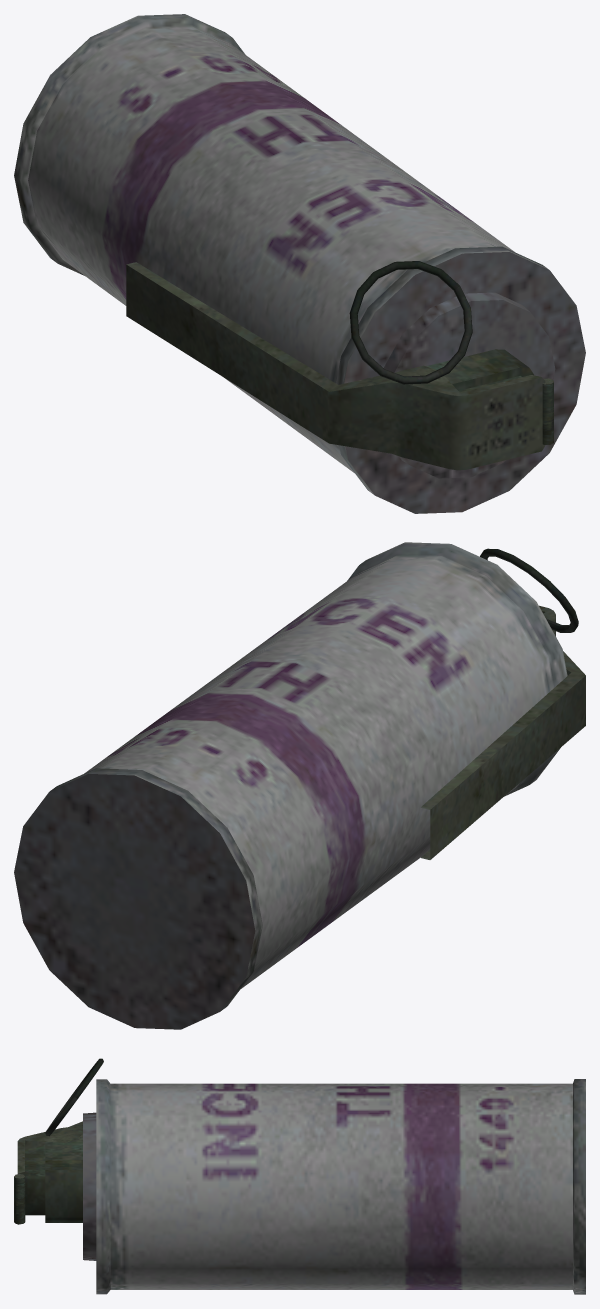
File: weapon_usa_smoke_grenade_LOD00.obj
The picture shows the model from 3 angles, top to bottom: view 1: azimuth 30°, elevation 25°; view 2: azimuth 150°, elevation 25°; view 3: azimuth 270°, elevation 25°; orthographic projection. The views are drawn at different scales.
Parts seen in each view (by area): view 1: TomGroup_0; view 2: TomGroup_0; view 3: TomGroup_0.
Part boxes in pixels (left/top/right/bottom): TomGroup_0: left=14, top=14, right=585, bottom=513; TomGroup_0: left=14, top=542, right=585, bottom=1029; TomGroup_0: left=14, top=1058, right=585, bottom=1294.
Size of the model in its own units: 6.2 by 5.57 by 14.49.
1 material, 1 textured.
